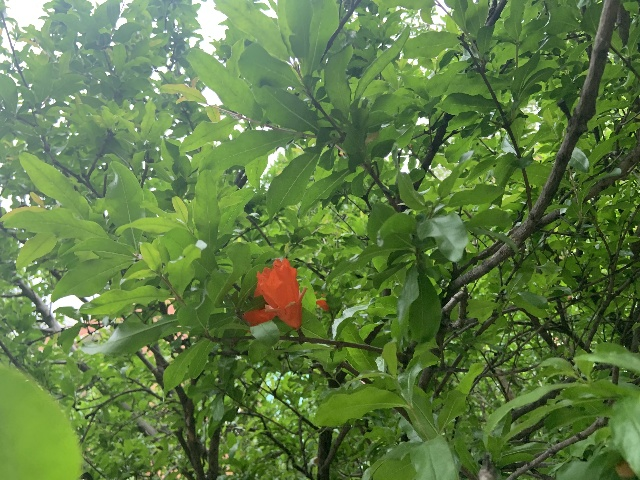flower: (253, 257, 307, 329), (314, 292, 329, 312)
